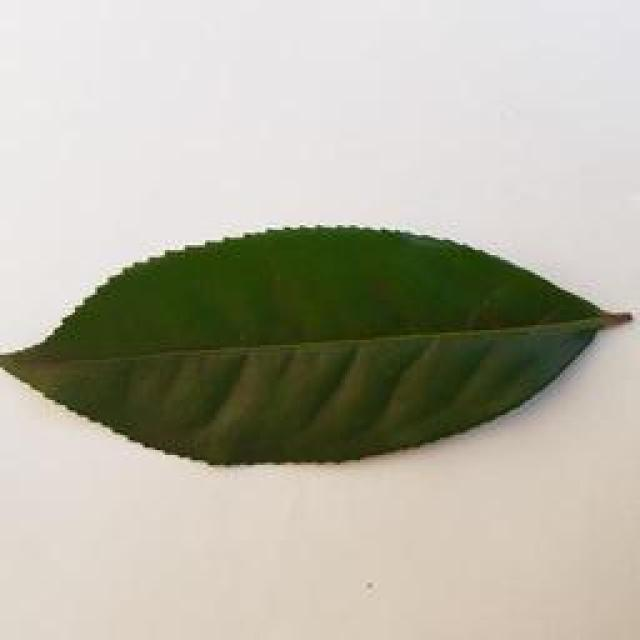Healthy: (0, 221, 640, 476)
